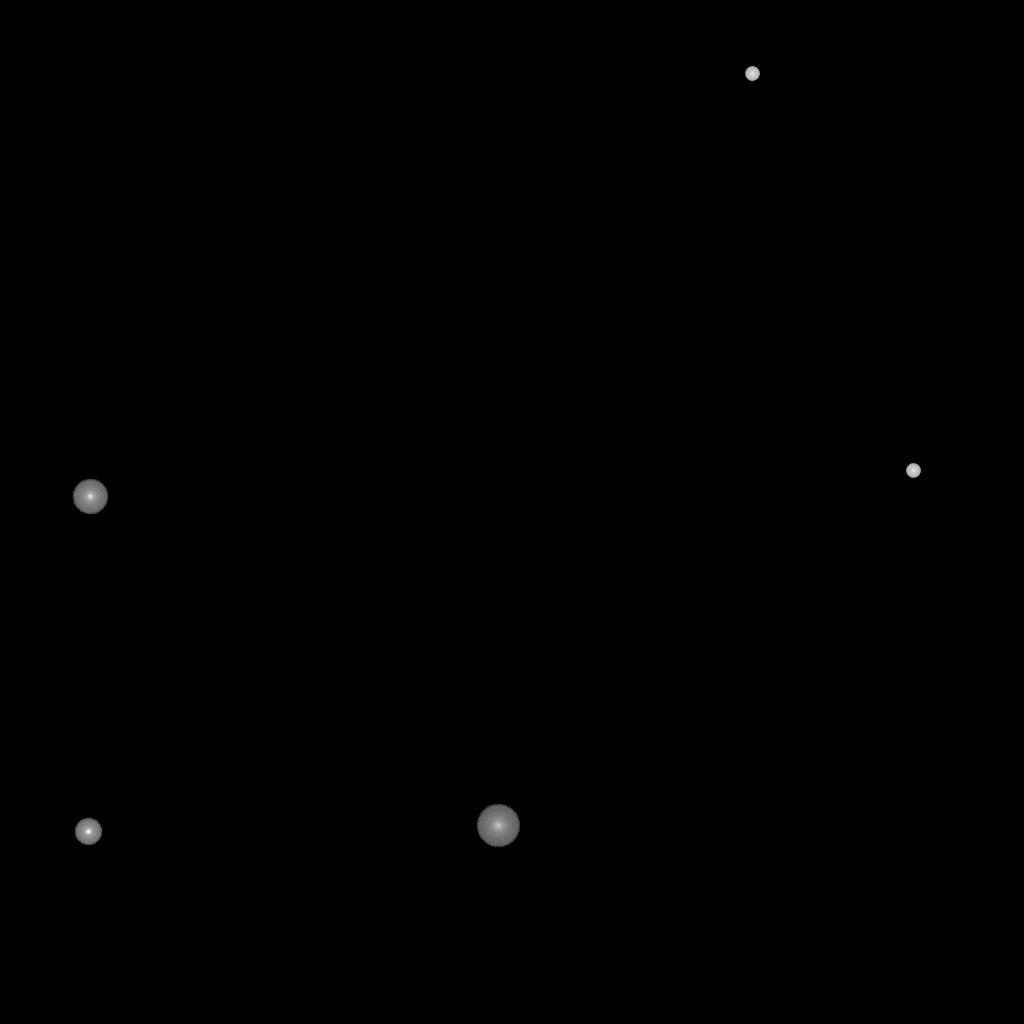depth:-10: (74, 818, 102, 846)
depth:-30: (906, 464, 920, 478), (745, 67, 759, 81)
depth:0: (72, 479, 108, 515)
depth:10: (476, 804, 520, 848)
